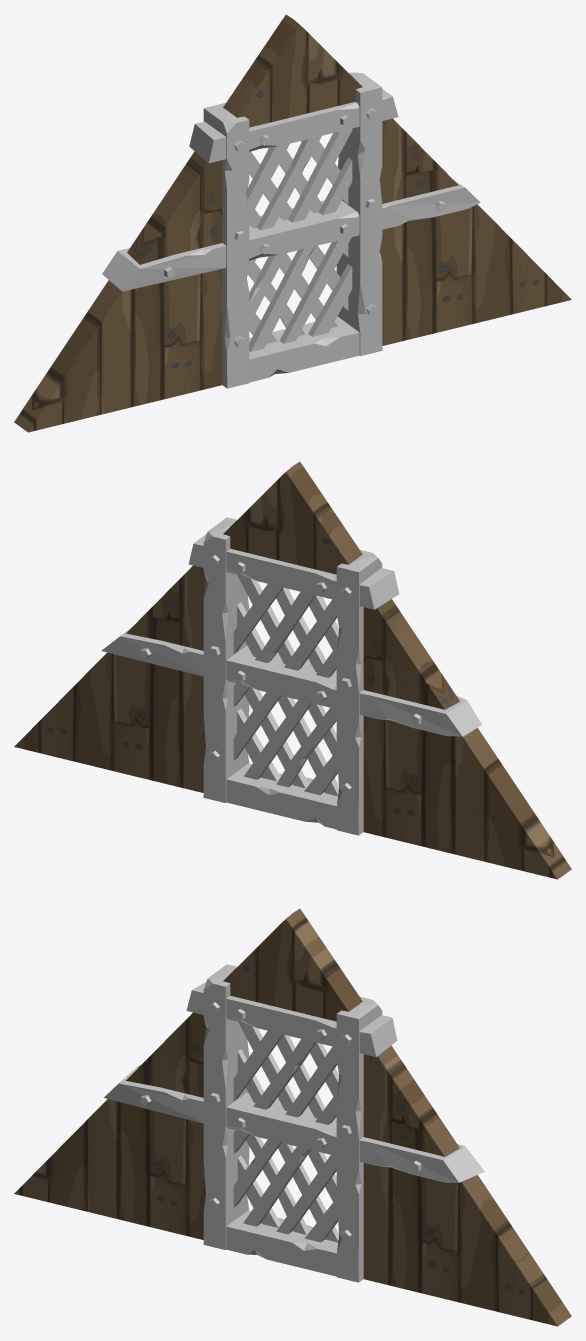
Rendered from SM_Bld_House_Roof_Wall_End_01.fbx.
3 renders of one model, top to bottom at view 1: azimuth 30°, elevation 25°; view 2: azimuth 150°, elevation 25°; view 3: azimuth 330°, elevation 25°, orthographic.
Parts seen in each view (by area): view 1: SM_Bld_House_Roof_Wall_End_01; view 2: SM_Bld_House_Roof_Wall_End_01; view 3: SM_Bld_House_Roof_Wall_End_01.
Boxes of the visible parts, <box> form: SM_Bld_House_Roof_Wall_End_01: <box>14,14,571,432</box>; SM_Bld_House_Roof_Wall_End_01: <box>14,461,571,879</box>; SM_Bld_House_Roof_Wall_End_01: <box>14,908,571,1326</box>.
Size of the model in its own units: 500 by 301 by 44.84.
